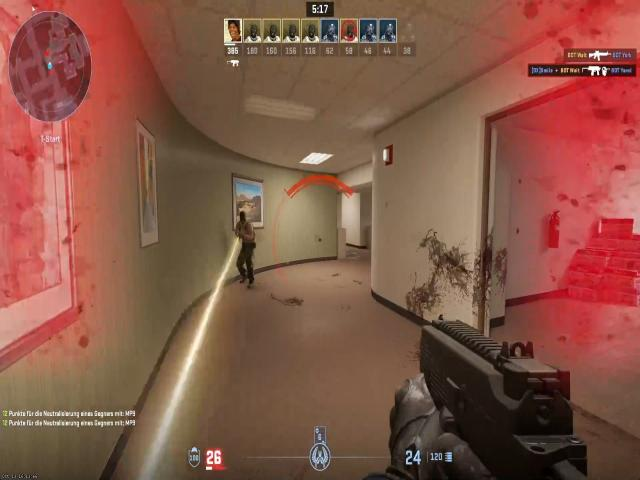T: (232, 204, 257, 255)
T-Head: (236, 210, 249, 228)
